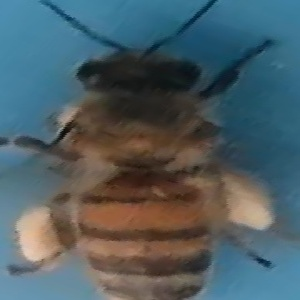bee: (15, 4, 285, 300)
